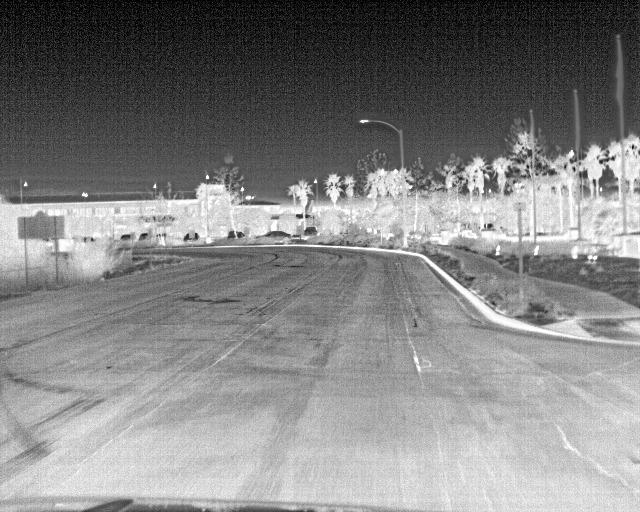car: (257, 229, 290, 243), (301, 225, 320, 241), (120, 233, 132, 249)
